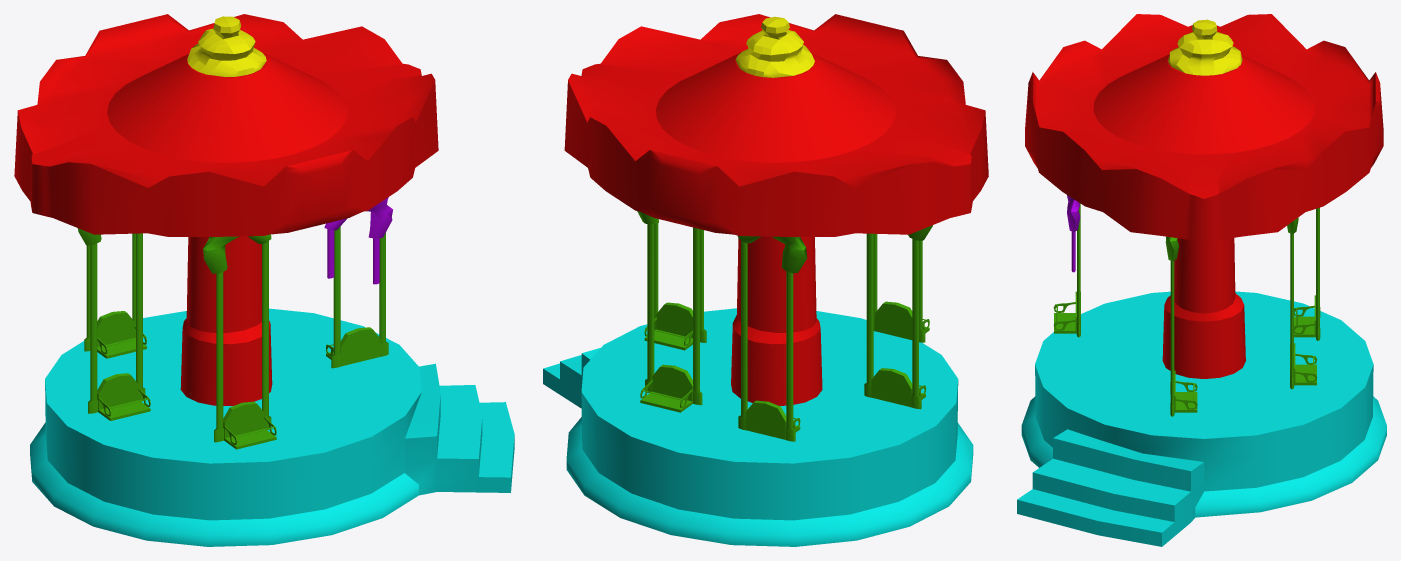
Rendered from Swing_Ride.fbx.
3 renders of one model, left to right at view 1: azimuth 30°, elevation 25°; view 2: azimuth 150°, elevation 25°; view 3: azimuth 270°, elevation 25°, orthographic. The views are drawn at different scales.
Parts seen in each view (by area): view 1: polySurface3, polySurface1, Seat7, Seat6, Seat3, polySurface2, Seat5, Broken_Seat; view 2: polySurface3, polySurface1, Seat5, Seat4, Seat6, polySurface2, Seat3, Seat7; view 3: polySurface3, polySurface1, polySurface2, Seat3, Seat4, Seat5, Seat7, Broken_Seat.
Boxes of the visible parts, x1,y1,x2,y2 form: polySurface3: [14, 14, 438, 405]; polySurface1: [30, 308, 514, 546]; Seat7: [203, 234, 276, 449]; Seat6: [77, 228, 150, 420]; Seat3: [326, 226, 388, 368]; polySurface2: [187, 16, 266, 76]; Seat5: [84, 233, 146, 358]; Broken_Seat: [324, 197, 392, 284]; polySurface3: [564, 14, 988, 405]; polySurface1: [543, 308, 973, 546]; Seat5: [737, 235, 807, 441]; Seat4: [637, 211, 702, 412]; Seat6: [864, 225, 932, 409]; polySurface2: [735, 16, 814, 77]; Seat3: [644, 223, 706, 350]; Seat7: [873, 233, 929, 342]; polySurface3: [1025, 14, 1383, 378]; polySurface1: [1017, 291, 1386, 546]; polySurface2: [1168, 19, 1242, 75]; Seat3: [1165, 236, 1197, 416]; Seat4: [1287, 217, 1317, 389]; Seat5: [1294, 207, 1320, 340]; Seat7: [1053, 203, 1080, 337]; Broken_Seat: [1067, 195, 1080, 272].
Bounding box in the file's own units: 40.16 × 37.84 × 30.94.
